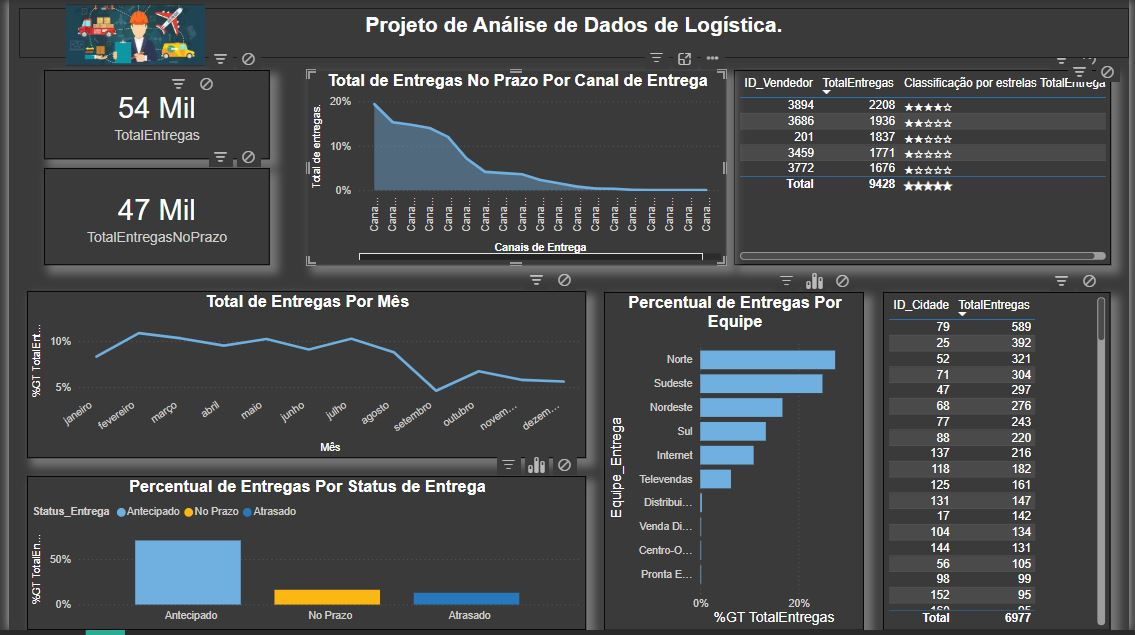

The dashboard page shown, as its layout file describes it:
{"tool":"powerbi","page":{"name":"Dashboard","canvas":[1280,720],"ordinal":0},"visuals":[{"type":"areaChart","title":"Total de Entregas No Prazo Por Canal de Entrega","fields":{"Category":["Logistica.Canal_Entrega"],"Y":["Medidas.TotalEntregas"]},"box":[340.3,79.9,479.2,223.4],"z":0},{"type":"barChart","title":"Percentual de Entregas Por Equipe","fields":{"Category":["Logistica.Equipe_Entrega"],"Y":["Medidas.TotalEntregas"]},"box":[679.5,333.4,297.5,386.6],"z":1000},{"type":"lineChart","title":"Total de Entregas Por Mês","fields":{"Category":["Logistica.Data_Entrega_Realizada.Variation.Hierarquia de datas.Mês"],"Y":["Medidas.TotalEntregas"]},"box":[20.6,332.9,638.7,191.5],"z":2000},{"type":"tableEx","title":"Total de Entregas com Atraso Por Cidade","fields":{"Values":["Logistica.ID_Cidade","Medidas.TotalEntregas"]},"box":[999,333.4,260.5,386.6],"z":3000},{"type":"columnChart","title":"Percentual de Entregas Por Status de Entrega","fields":{"Category":["Logistica.Status_Entrega"],"Series":["Logistica.Status_Entrega"],"Y":["Medidas.TotalEntregas"]},"box":[20.8,544.1,639,175.9],"z":4000},{"type":"tableEx","title":"Total de Entregas de Produtos dos Top 5 Vendedores","fields":{"Values":["Logistica.ID_Vendedor","Medidas.TotalEntregas","Medidas.Classificação por estrelas TotalEntregas"]},"box":[828.8,79.9,430.6,223.4],"z":5000},{"type":"textbox","box":[233.1,9.1,825.1,57.1],"z":6000},{"type":"card","fields":{"Values":["Medidas.TotalEntregas"]},"box":[40.5,79.9,258.1,101.9],"z":7000},{"type":"card","fields":{"Values":["Medidas.TotalEntregasNoPrazo"]},"box":[40.5,192.2,258.1,111.1],"z":8000},{"type":"image","box":[40.5,0,209.5,79.9],"z":9000}]}

Visuals, with their boxes in screenshot pixels (x1, y1, x2, y2), scaled from the page's 1280x720 canvas onto the 1135x635 screenshot:
"Total de Entregas No Prazo Por Canal de Entrega" areaChart: 302, 70, 727, 267
"Percentual de Entregas Por Equipe" barChart: 603, 294, 866, 634
"Total de Entregas Por Mês" lineChart: 18, 294, 585, 462
"Total de Entregas com Atraso Por Cidade" tableEx: 886, 294, 1117, 634
"Percentual de Entregas Por Status de Entrega" columnChart: 18, 480, 585, 634
"Total de Entregas de Produtos dos Top 5 Vendedores" tableEx: 735, 70, 1117, 267
textbox: 207, 8, 938, 58
card - Medidas.TotalEntregas: 36, 70, 265, 160
card - Medidas.TotalEntregasNoPrazo: 36, 170, 265, 267
image: 36, 0, 222, 70
